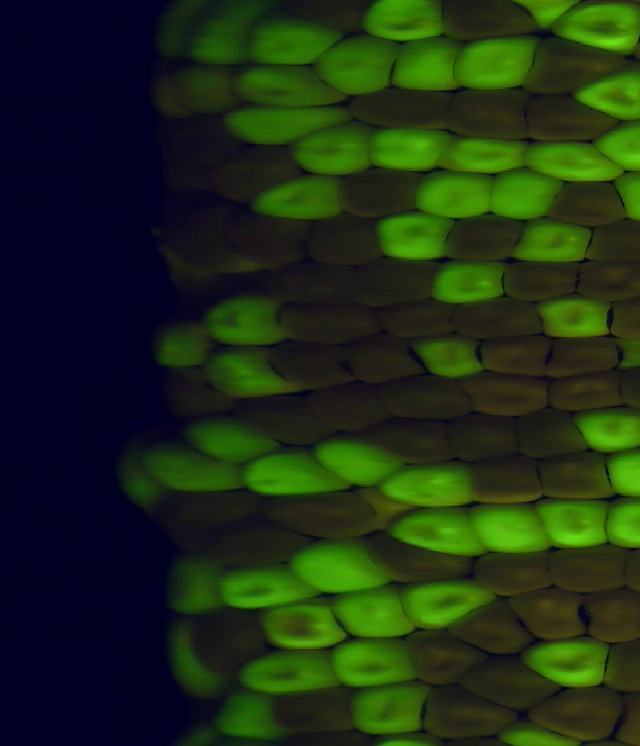fluorescent: (291, 532, 387, 594), (386, 501, 487, 559), (220, 103, 350, 145), (165, 619, 233, 698), (240, 449, 354, 496), (394, 576, 495, 629), (237, 647, 346, 695), (312, 34, 400, 93), (519, 635, 613, 690), (328, 630, 411, 691), (201, 349, 307, 396), (465, 503, 557, 557), (378, 458, 480, 506), (142, 444, 244, 492), (230, 66, 349, 107), (252, 17, 345, 69), (522, 138, 627, 184), (181, 418, 286, 464), (215, 563, 329, 605), (187, 1, 261, 65), (551, 2, 640, 55), (310, 437, 406, 486), (451, 39, 537, 93), (289, 122, 375, 176), (534, 496, 615, 552), (346, 684, 433, 736), (199, 295, 287, 346), (487, 167, 568, 221), (366, 126, 451, 175), (427, 257, 513, 305), (391, 35, 460, 93), (511, 217, 592, 266), (330, 588, 411, 637), (377, 209, 450, 262), (440, 130, 531, 172), (414, 171, 497, 217), (253, 176, 346, 217), (537, 293, 616, 340), (163, 555, 227, 613), (258, 606, 344, 649), (574, 68, 640, 122), (216, 689, 285, 740), (364, 1, 447, 43), (408, 334, 486, 378), (115, 447, 170, 509), (571, 405, 640, 452), (154, 320, 215, 368), (496, 716, 583, 746), (591, 118, 640, 171), (184, 67, 240, 111), (151, 71, 199, 122), (601, 495, 640, 549), (155, 1, 190, 60), (516, 1, 578, 31), (604, 447, 640, 497), (372, 733, 441, 746)
nonfluorescent: (165, 208, 264, 275), (361, 529, 478, 585), (255, 490, 378, 541), (150, 486, 257, 544), (199, 514, 316, 566), (232, 392, 338, 448), (152, 112, 228, 189), (523, 37, 628, 91), (528, 684, 628, 740), (445, 83, 536, 144), (351, 85, 454, 137), (460, 654, 559, 708), (522, 89, 620, 143), (419, 683, 516, 737), (214, 144, 301, 204), (189, 608, 271, 671), (448, 598, 535, 656), (369, 415, 463, 467), (376, 371, 472, 420), (408, 627, 489, 685), (507, 586, 589, 643), (449, 296, 551, 341), (541, 543, 634, 591), (312, 212, 391, 267), (270, 686, 360, 734), (269, 261, 357, 310), (275, 300, 379, 341), (460, 368, 552, 414), (342, 334, 430, 382), (447, 410, 524, 464), (438, 1, 541, 41), (351, 255, 436, 303), (307, 381, 388, 431), (233, 213, 313, 263), (537, 451, 616, 501), (547, 179, 630, 226), (160, 369, 235, 421), (469, 454, 548, 503), (340, 167, 422, 214), (443, 211, 518, 261), (479, 331, 555, 380), (471, 547, 553, 592), (375, 297, 459, 340), (519, 410, 591, 460), (497, 260, 582, 302), (272, 342, 349, 386), (571, 253, 640, 301), (583, 586, 640, 644), (544, 372, 626, 410), (546, 333, 620, 375), (286, 1, 375, 33), (585, 216, 640, 264), (603, 637, 640, 693), (608, 291, 640, 338)
